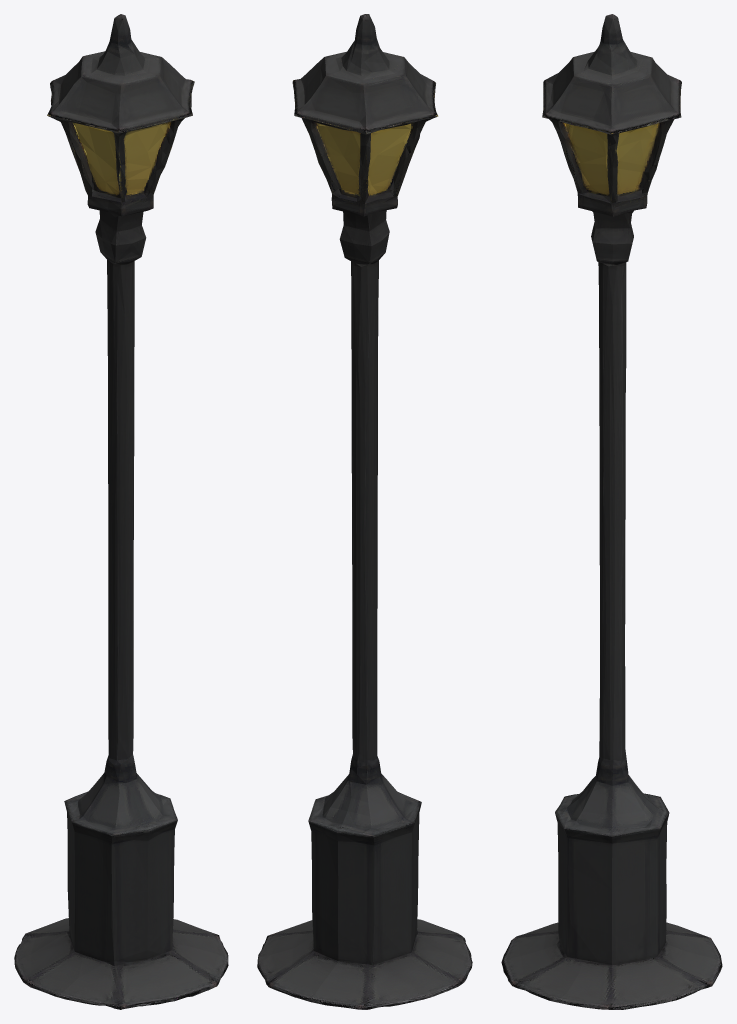
Rendered from den_duong_2.glb.
The picture shows the model from 3 angles, left to right: view 1: azimuth 30°, elevation 25°; view 2: azimuth 150°, elevation 25°; view 3: azimuth 270°, elevation 25°; orthographic projection.
Visible parts, largest first — view 1: world; view 2: world; view 3: world.
Part boxes in pixels (x1,y1,x2,y2): world: (14, 14, 228, 1009); world: (257, 14, 472, 1009); world: (501, 14, 722, 1009).
Size of the model in its own units: 0.2162 by 1 by 0.2113.
1 material, 1 textured.
